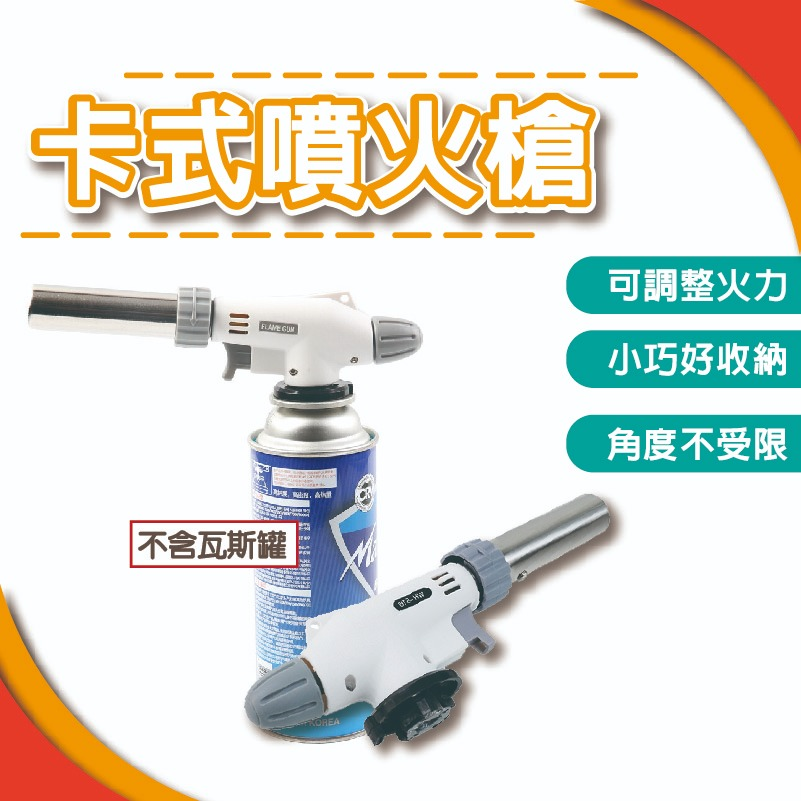gastorch: (26, 277, 424, 753)
